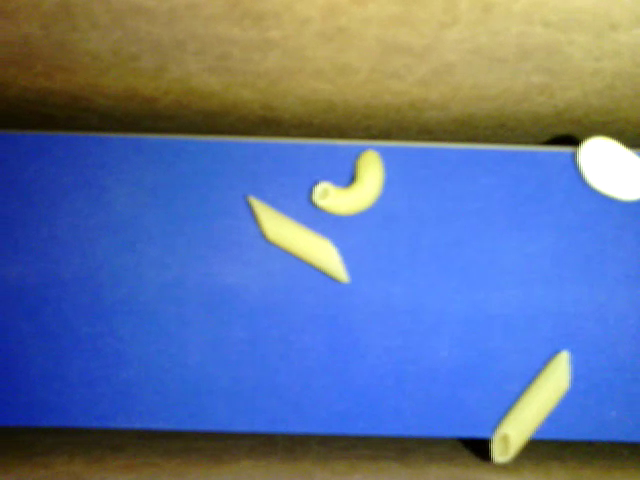elbow: (312, 148, 386, 216)
penne: (491, 349, 569, 464), (249, 196, 349, 284)
